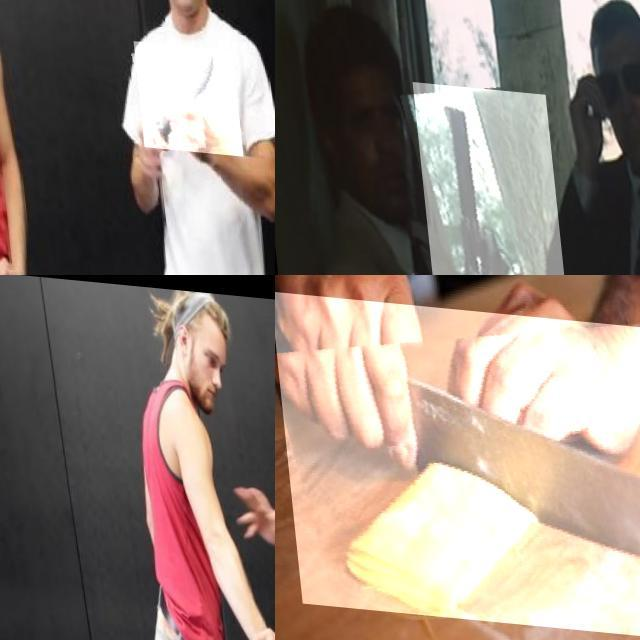-: (275, 289, 640, 639), (129, 33, 236, 146)
gun-knife-thesis - v11 Yolov5 augmented: (407, 78, 567, 275)
